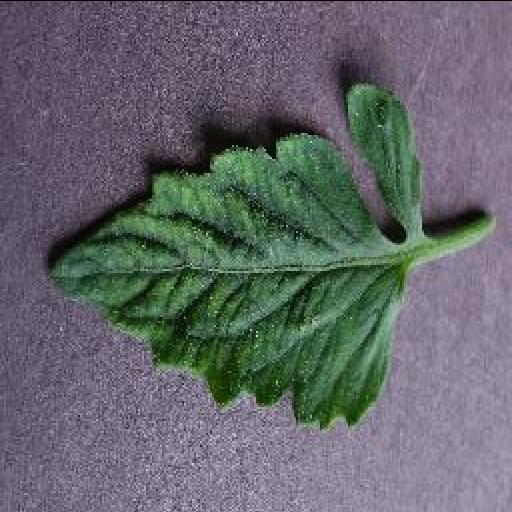disease_tomato: (44, 81, 422, 431)
